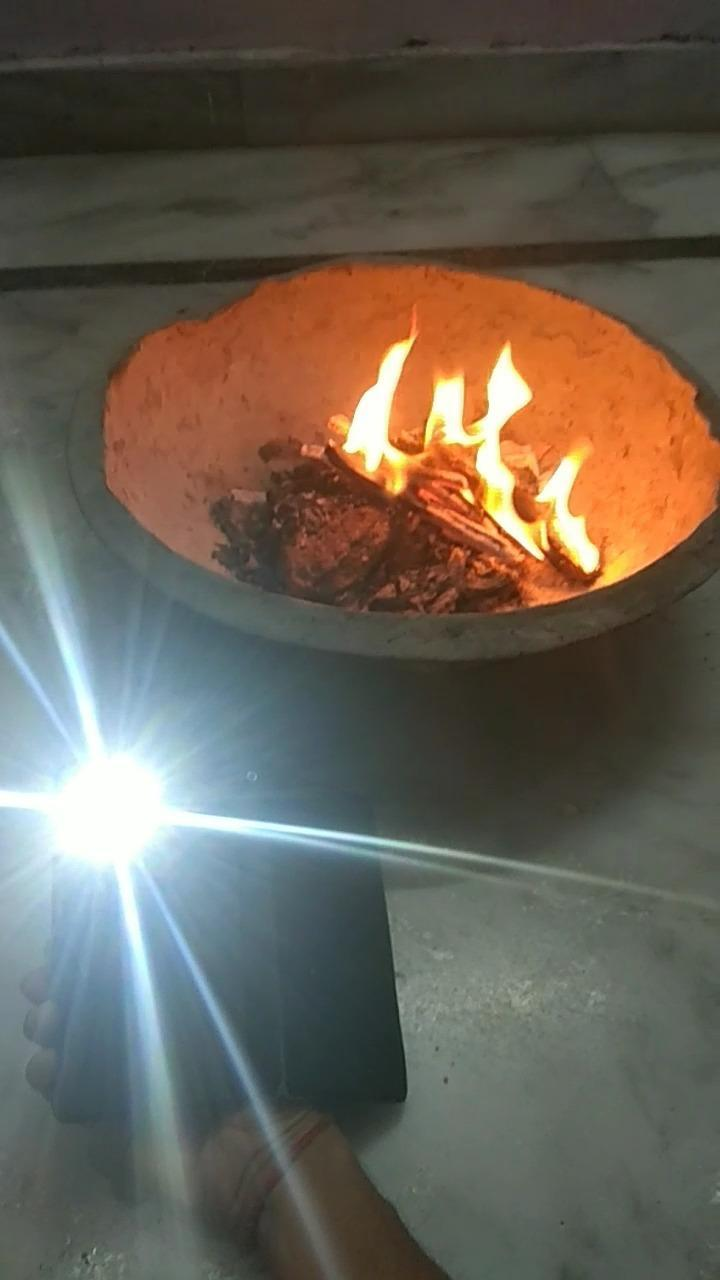fire: (328, 318, 622, 584)
